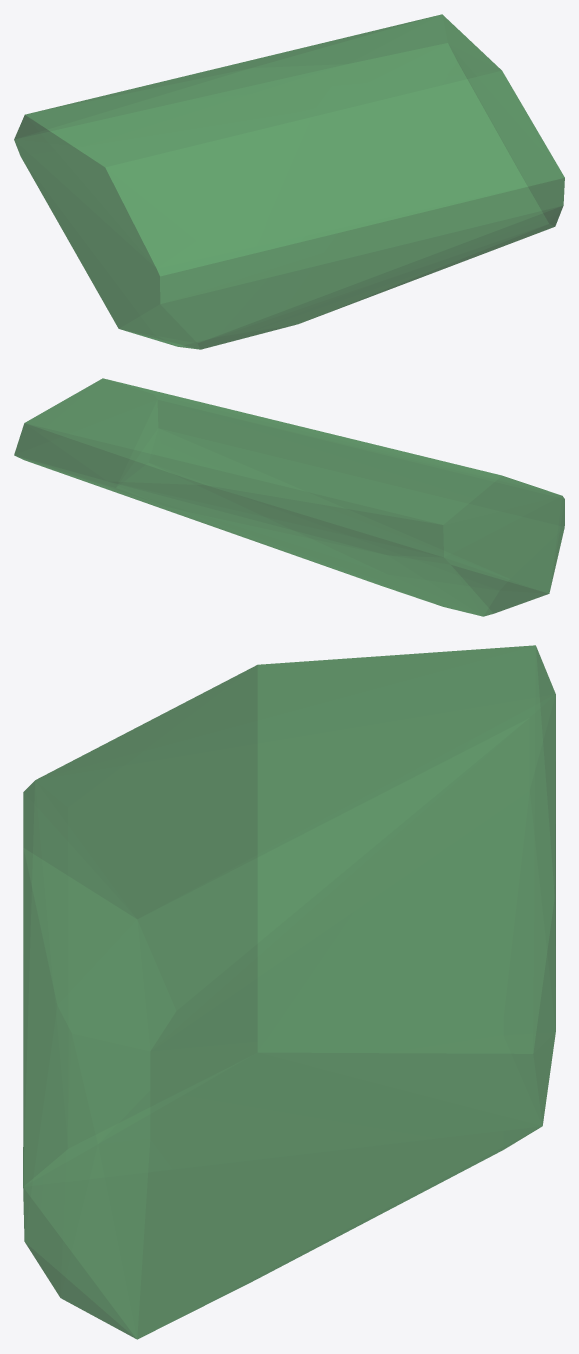
3 views of the same model, one above another, from view 1: azimuth 30°, elevation 25°; view 2: azimuth 150°, elevation 25°; view 3: azimuth 270°, elevation 25° (orthographic). The views are drawn at different scales.
Visible parts, largest first — view 1: Shape_IndexedFaceSet.003_Shape_IndexedFaceSet.18094; view 2: Shape_IndexedFaceSet.003_Shape_IndexedFaceSet.18094; view 3: Shape_IndexedFaceSet.003_Shape_IndexedFaceSet.18094.
Part boxes in pixels (x1,y1,x2,y2): Shape_IndexedFaceSet.003_Shape_IndexedFaceSet.18094: (14,14,564,349); Shape_IndexedFaceSet.003_Shape_IndexedFaceSet.18094: (14,378,564,616); Shape_IndexedFaceSet.003_Shape_IndexedFaceSet.18094: (23,645,555,1339).
Bounding box in the file's own units: 0.401 × 0.1561 × 0.2148.
